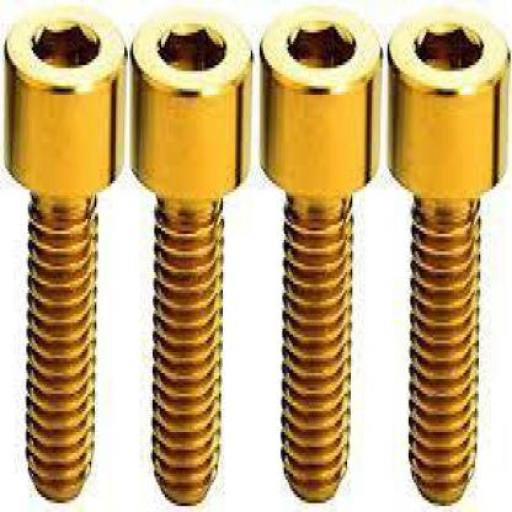Bolt: (130, 5, 254, 506), (259, 5, 383, 505), (4, 4, 126, 505), (388, 5, 510, 506)
